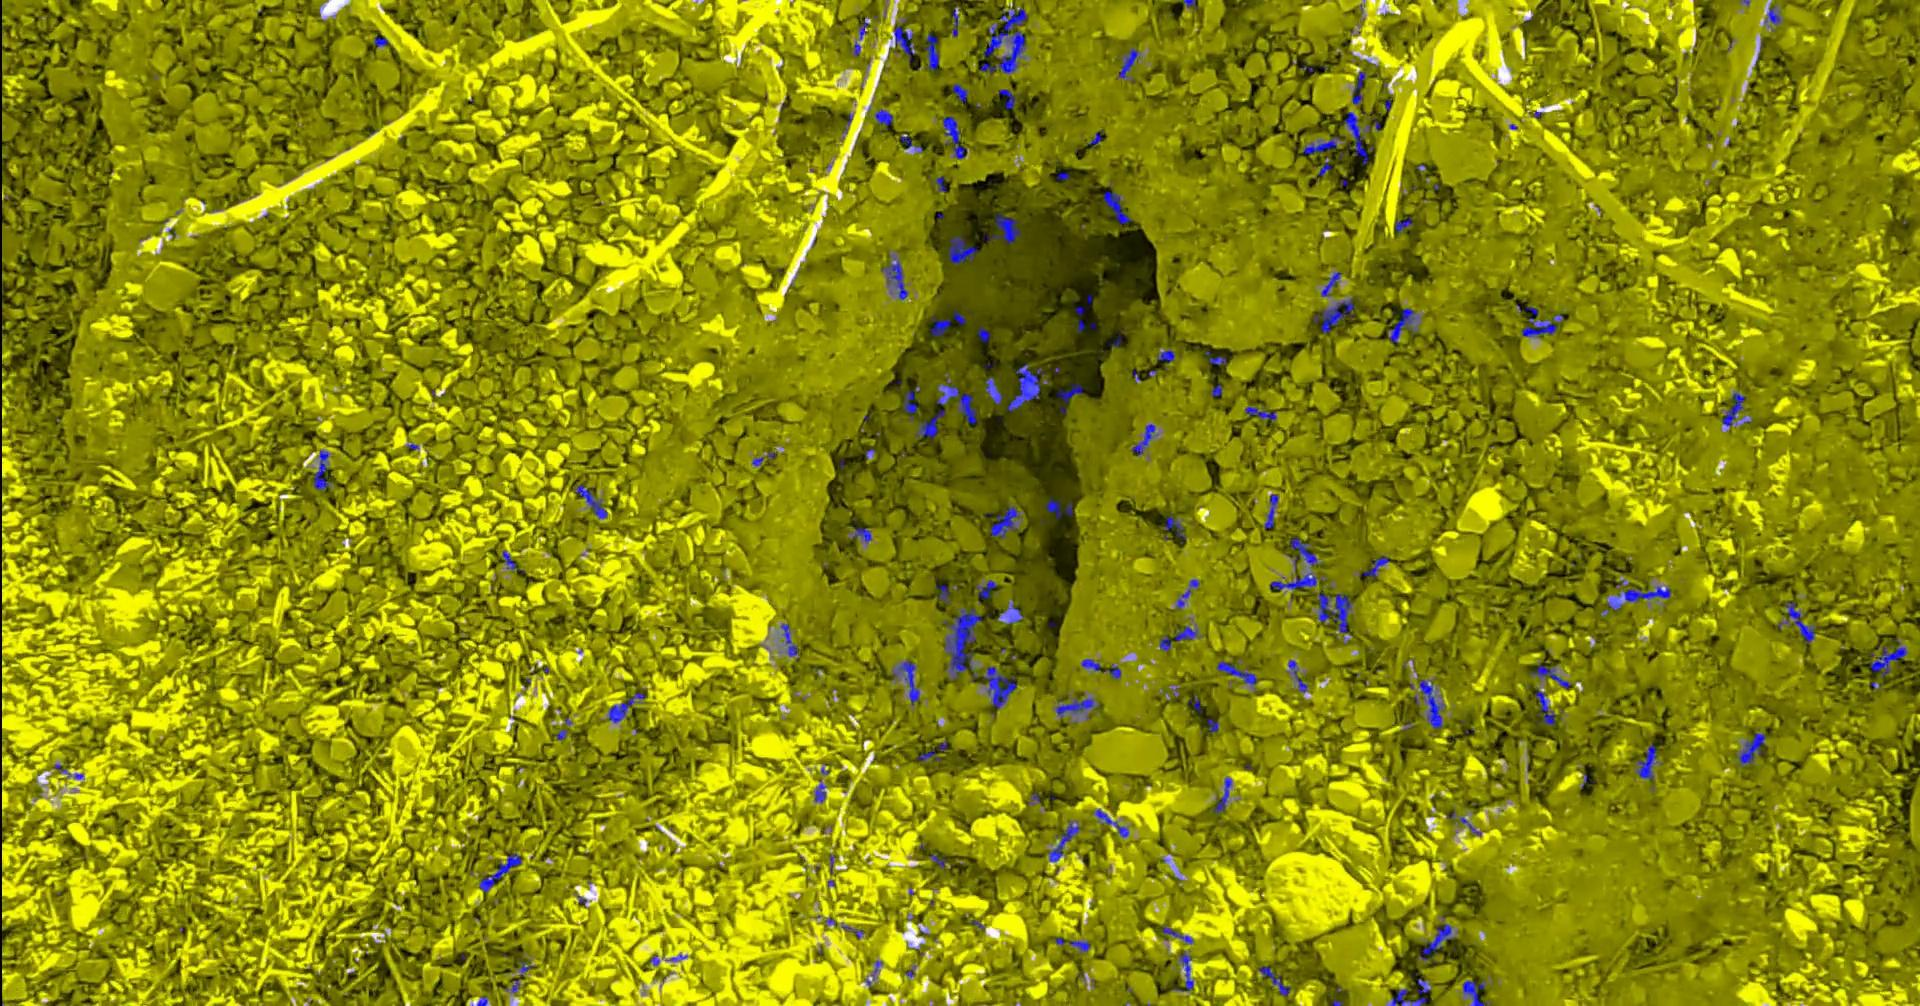ant: (917, 372, 978, 438), (1008, 363, 1050, 412), (1345, 111, 1382, 163), (480, 854, 523, 892), (1779, 601, 1816, 644), (1319, 592, 1354, 638), (1517, 304, 1564, 337), (1418, 923, 1457, 960), (1316, 297, 1355, 333), (985, 666, 1018, 708), (1870, 640, 1909, 676), (1049, 821, 1081, 861), (1617, 579, 1672, 602), (893, 659, 921, 705), (610, 688, 648, 721), (1420, 680, 1445, 728), (883, 254, 909, 298), (1290, 537, 1324, 572), (577, 483, 610, 518), (1218, 661, 1258, 688), (1531, 661, 1572, 688), (990, 504, 1023, 539), (987, 212, 1022, 243), (1057, 692, 1101, 716), (1392, 978, 1431, 1005), (1737, 732, 1768, 766), (943, 116, 968, 159), (1390, 307, 1420, 343), (1095, 808, 1130, 837), (1271, 572, 1328, 589), (1103, 191, 1133, 224), (949, 235, 980, 264), (1260, 965, 1291, 995), (1723, 391, 1747, 427), (1133, 423, 1159, 455), (895, 24, 917, 62), (1058, 384, 1084, 414), (1451, 808, 1482, 835), (1175, 951, 1195, 991), (314, 448, 333, 490), (1360, 555, 1390, 580), (1537, 687, 1557, 725), (1304, 135, 1342, 154), (1638, 744, 1658, 780), (1177, 579, 1201, 608), (782, 622, 800, 661), (1464, 981, 1492, 1005), (1289, 659, 1309, 692), (1164, 514, 1187, 544), (1120, 47, 1142, 77), (1215, 777, 1233, 813), (919, 739, 949, 761), (924, 32, 941, 69), (1046, 498, 1074, 518), (904, 386, 921, 420), (1322, 271, 1343, 296), (1163, 925, 1194, 942), (985, 377, 1004, 404), (1352, 71, 1368, 104), (1266, 493, 1280, 528), (850, 521, 872, 542), (977, 579, 998, 602), (1246, 405, 1277, 420), (1057, 937, 1091, 951), (999, 88, 1021, 109), (55, 763, 85, 779), (931, 316, 952, 337), (902, 133, 924, 152), (876, 109, 895, 130), (1175, 625, 1200, 640), (753, 451, 778, 465), (1010, 600, 1025, 622), (843, 922, 865, 937), (1604, 600, 1624, 615), (1766, 5, 1782, 24), (954, 83, 969, 102), (1319, 156, 1335, 175), (1396, 217, 1415, 232), (937, 583, 952, 602), (1208, 351, 1228, 365), (1106, 663, 1123, 680), (517, 960, 535, 976), (1189, 694, 1203, 713), (860, 17, 871, 39), (1090, 130, 1105, 146), (930, 854, 947, 868), (504, 550, 517, 569), (952, 5, 960, 36), (1082, 658, 1102, 669), (935, 175, 949, 192), (817, 780, 827, 801), (979, 325, 992, 342), (1161, 634, 1173, 650), (1158, 351, 1177, 361), (375, 36, 391, 47), (955, 310, 968, 324), (1211, 384, 1224, 396), (1209, 718, 1220, 732)
